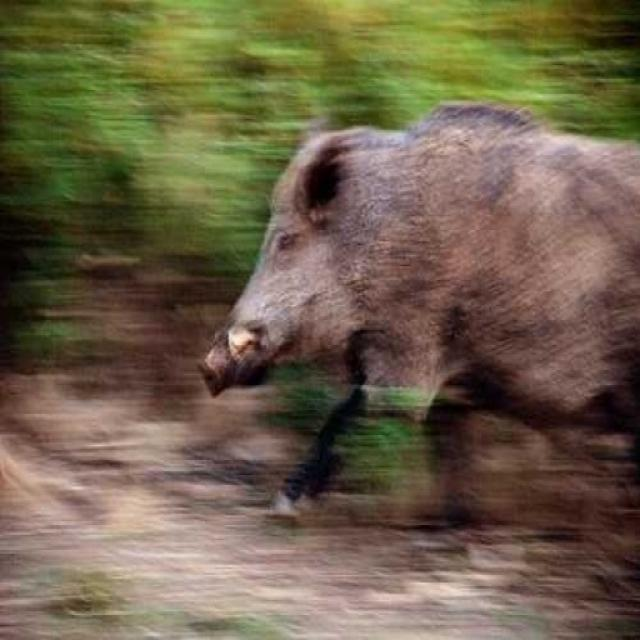pig: (209, 67, 640, 540)
